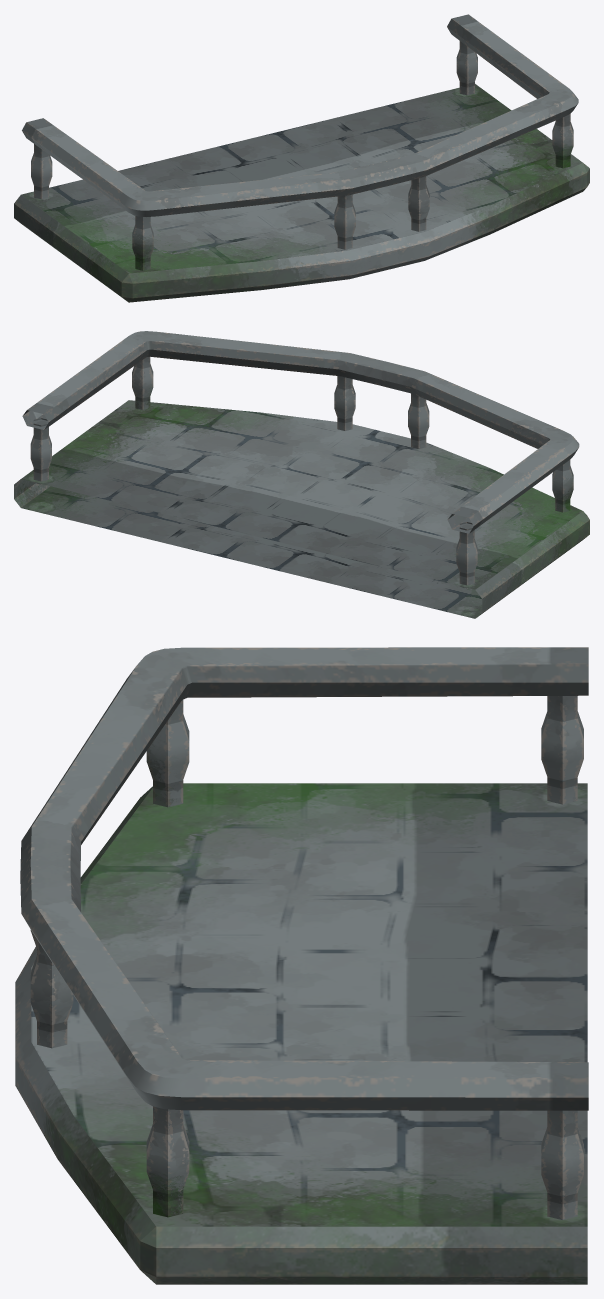
The model's file is Balcony_1.fbx.
3 renders of one model, top to bottom at view 1: azimuth 30°, elevation 25°; view 2: azimuth 150°, elevation 25°; view 3: azimuth 270°, elevation 25°, orthographic. The views are drawn at different scales.
Visible parts, largest first — view 1: pCylinder5; view 2: pCylinder5; view 3: pCylinder5.
Part boxes in pixels (box(x1,y1,x2,y2)): pCylinder5: box(14, 14, 589, 302); pCylinder5: box(14, 331, 589, 618); pCylinder5: box(15, 647, 588, 1284).
Size of the model in its own units: 240 by 48.86 by 127.
